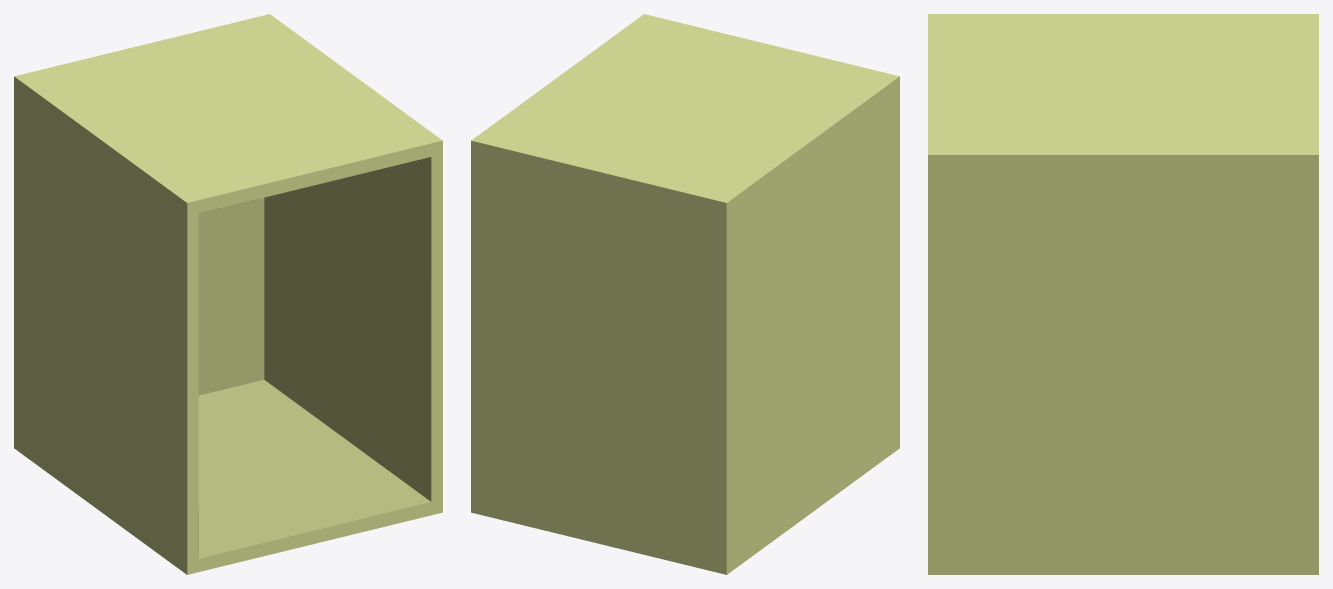
The model's file is Armarinho.fbx.
3 views of the same model, side by side, from view 1: azimuth 30°, elevation 25°; view 2: azimuth 150°, elevation 25°; view 3: azimuth 270°, elevation 25° (orthographic). The views are drawn at different scales.
Visible parts, largest first — view 1: Armarinho; view 2: Armarinho; view 3: Armarinho.
Part boxes in pixels (x1,y1,x2,y2): Armarinho: [14, 14, 442, 574]; Armarinho: [471, 14, 899, 574]; Armarinho: [928, 14, 1318, 574].
Size of the model in its own units: 184 by 255 by 215.
